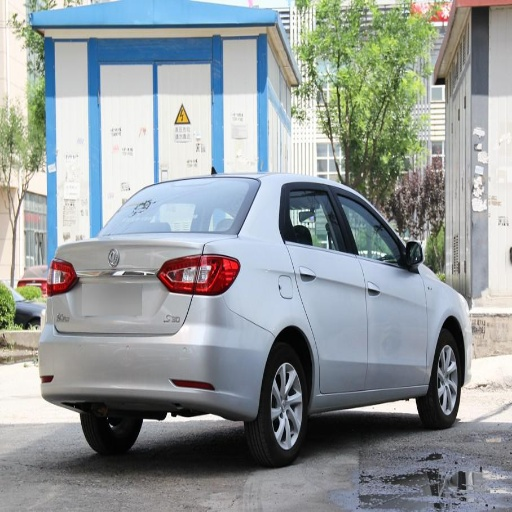back_bumper: (36, 294, 273, 418)
back_right_door: (282, 183, 366, 390)
tailgate: (57, 233, 193, 332)
trunk: (48, 283, 193, 334)
